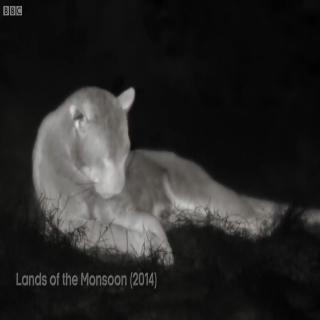Leopard: (22, 68, 320, 274)
